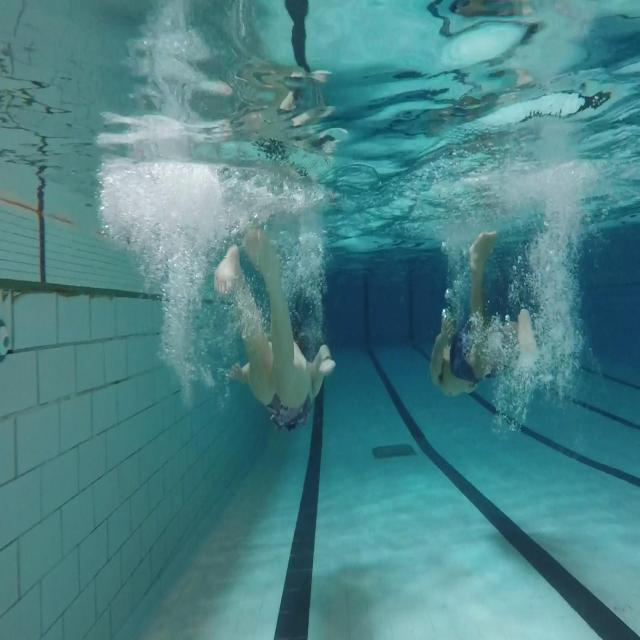human: (213, 225, 336, 432), (429, 229, 539, 399)
